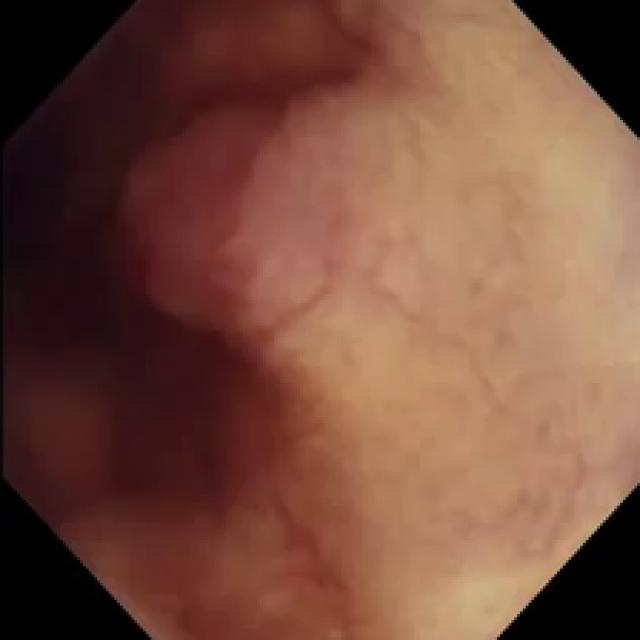bleeding: (0, 0, 329, 503)
